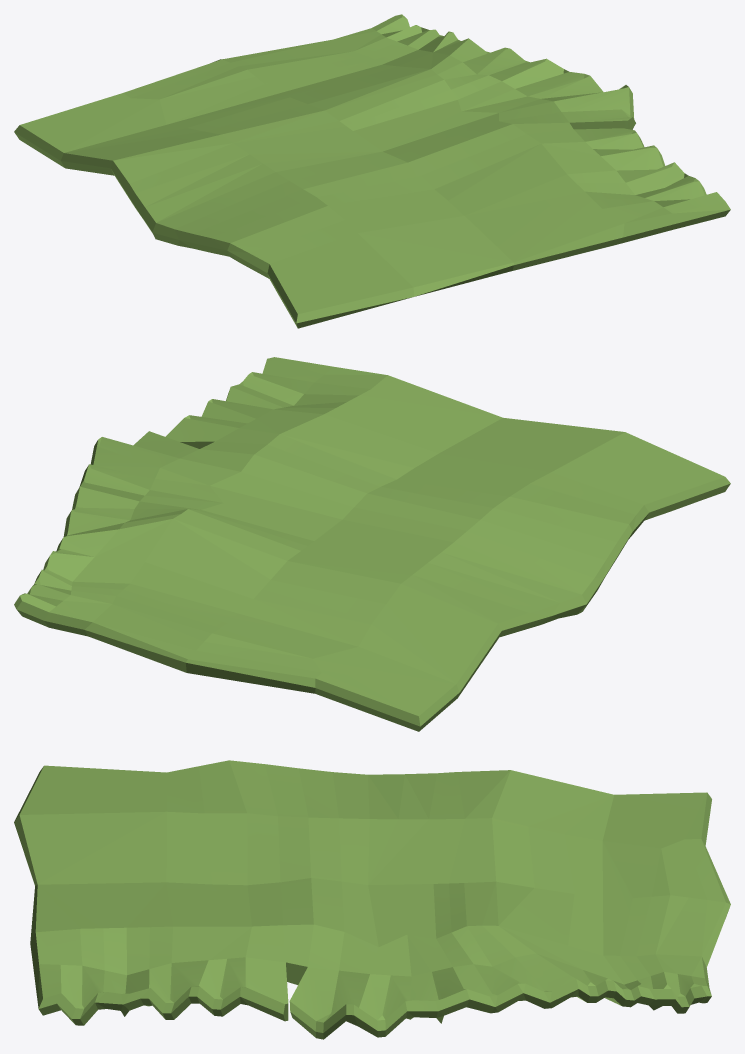
Rendered from salad-transformed.glb.
3 renders of one model, top to bottom at view 1: azimuth 30°, elevation 25°; view 2: azimuth 150°, elevation 25°; view 3: azimuth 270°, elevation 25°, orthographic. The views are drawn at different scales.
Visible parts, largest first — view 1: salad; view 2: salad; view 3: salad.
Boxes of the visible parts, <box> form: salad: <box>14,14,730,328</box>; salad: <box>14,357,730,731</box>; salad: <box>14,760,730,1039</box>.
Size of the model in its own units: 1.3 by 0.1576 by 1.46.
